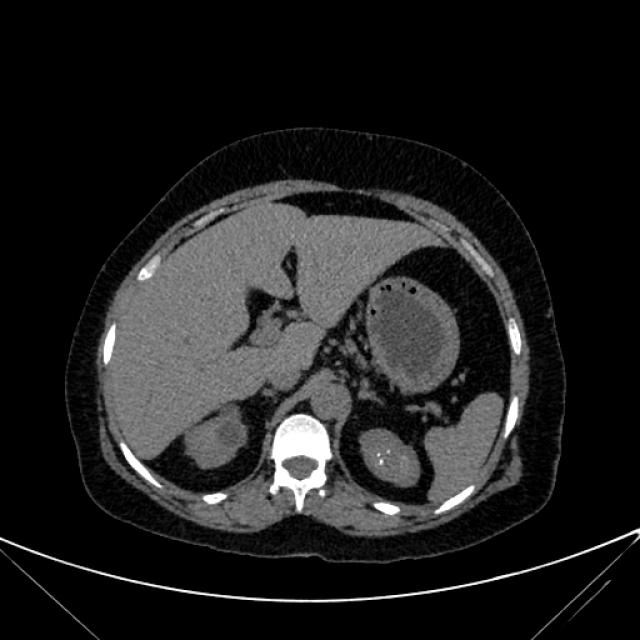kidney: (185, 411, 246, 466), (364, 434, 420, 485)
stone: (376, 452, 382, 458), (379, 460, 383, 464), (387, 450, 390, 454)
